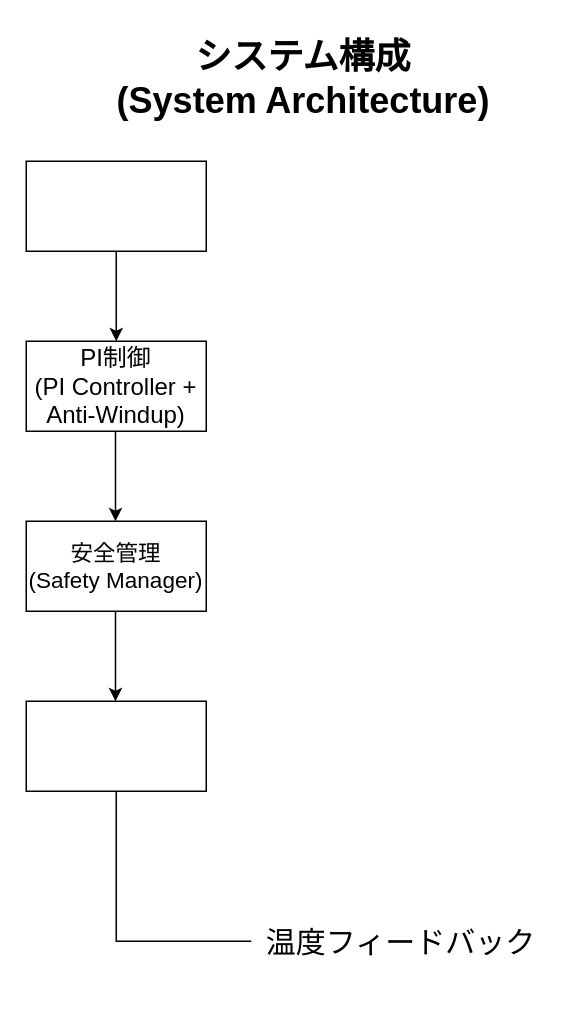
Some shapes in this 578 by 1011 pixel diagram are drawn without their labels. Each missing label, with the centre of its shape:
"熱プラントモデル (Thermal Plant)" goes at (x=115, y=745).
"目標温度 (Setpoint)" goes at (x=115, y=205).
